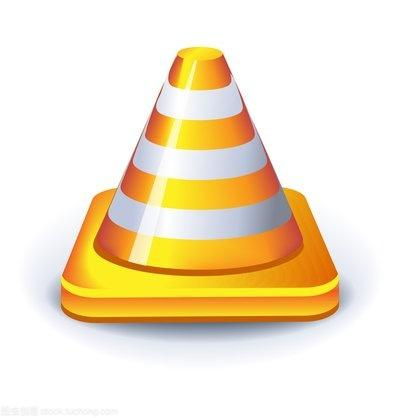cone_barrel: (76, 46, 321, 291)
